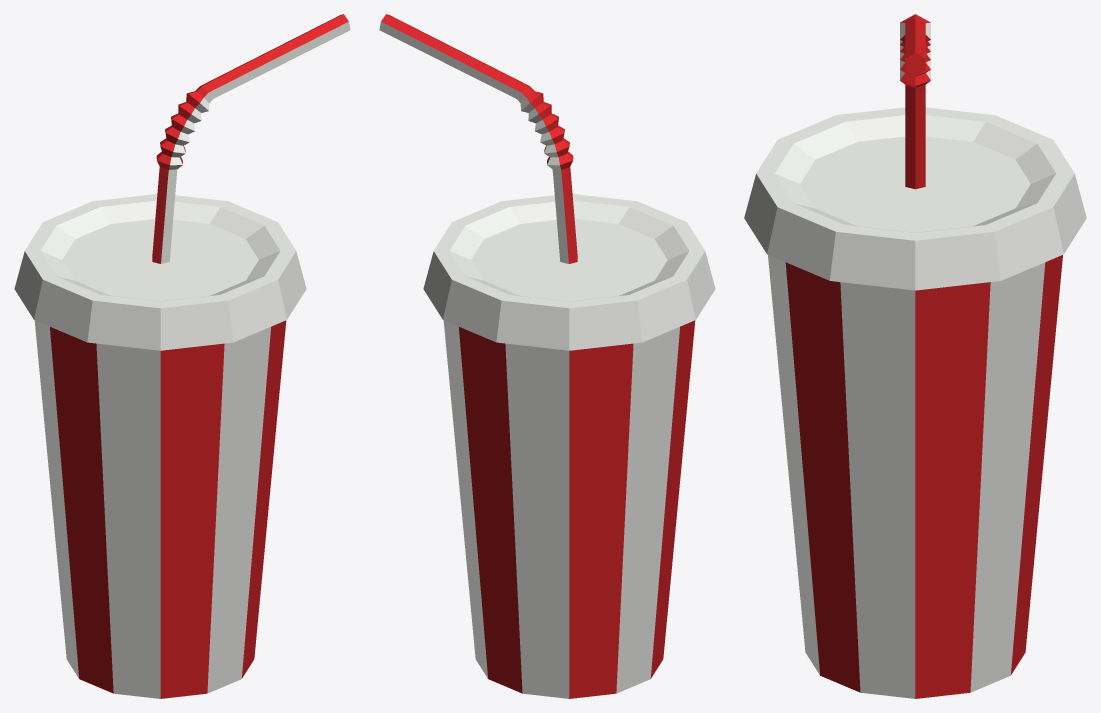
Rendered from colaCup.FBX.
3 renders of one model, left to right at view 1: azimuth 30°, elevation 25°; view 2: azimuth 150°, elevation 25°; view 3: azimuth 270°, elevation 25°, orthographic. The views are drawn at different scales.
Visible parts, largest first — view 1: colaCup; view 2: colaCup; view 3: colaCup.
Part boxes in pixels (left/top/right/bottom): colaCup: left=14, top=14, right=350, bottom=698; colaCup: left=379, top=14, right=715, bottom=698; colaCup: left=744, top=14, right=1086, bottom=698.
Size of the model in its own units: 3.03 by 5.56 by 2.45.
